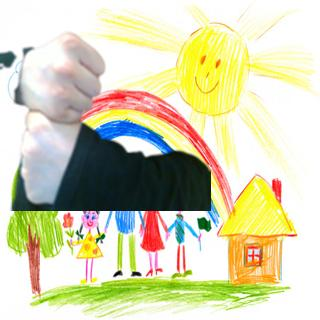CAREFUL: (13, 27, 107, 205)
